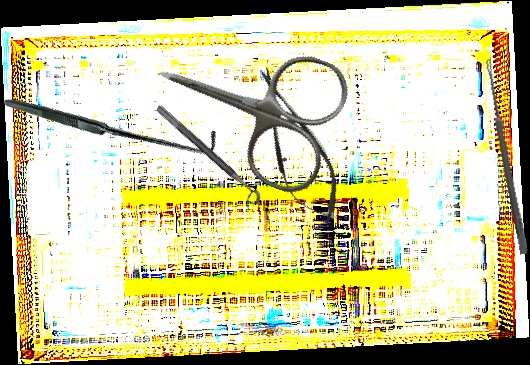Fixation Ring: (147, 103, 266, 214)
Hook Surgical: (2, 10, 224, 234)
Iris Scissors: (135, 7, 357, 201)
Micro Scissor: (239, 58, 353, 234)
Surgical Spoon: (482, 58, 530, 255)
